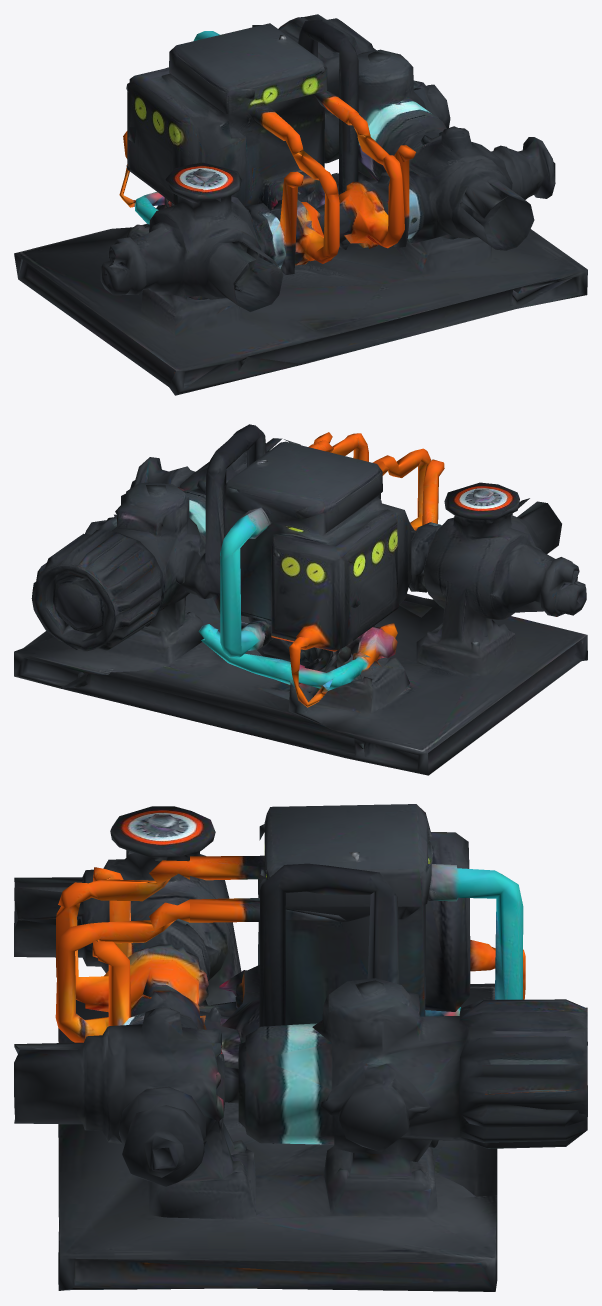
File: coolant_pump_station.glb
3 renders of one model, top to bottom at view 1: azimuth 30°, elevation 25°; view 2: azimuth 150°, elevation 25°; view 3: azimuth 270°, elevation 25°, orthographic. The views are drawn at different scales.
Size of the model in its own units: 1.9 by 0.9572 by 1.56.
1 material, 1 textured.
